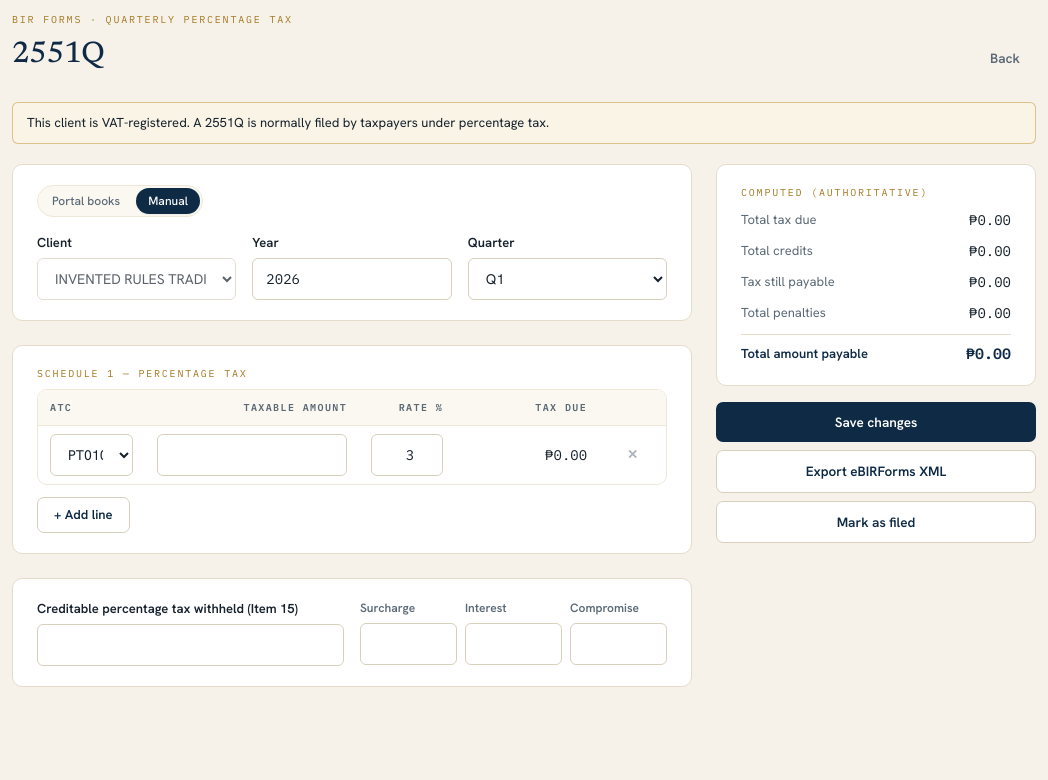
Test: T5 a freshly mounted form, and overlapping actions (W3 review round 2) › holds Save while a Mark as filed is in flight
The width and height of the screenshot is (1048, 780).
Expected: the button "Save changes" is enabled, 716,402 -> 1036,442
Click the button "Mark as filed" at (876, 522), box 716,500 -> 1036,543
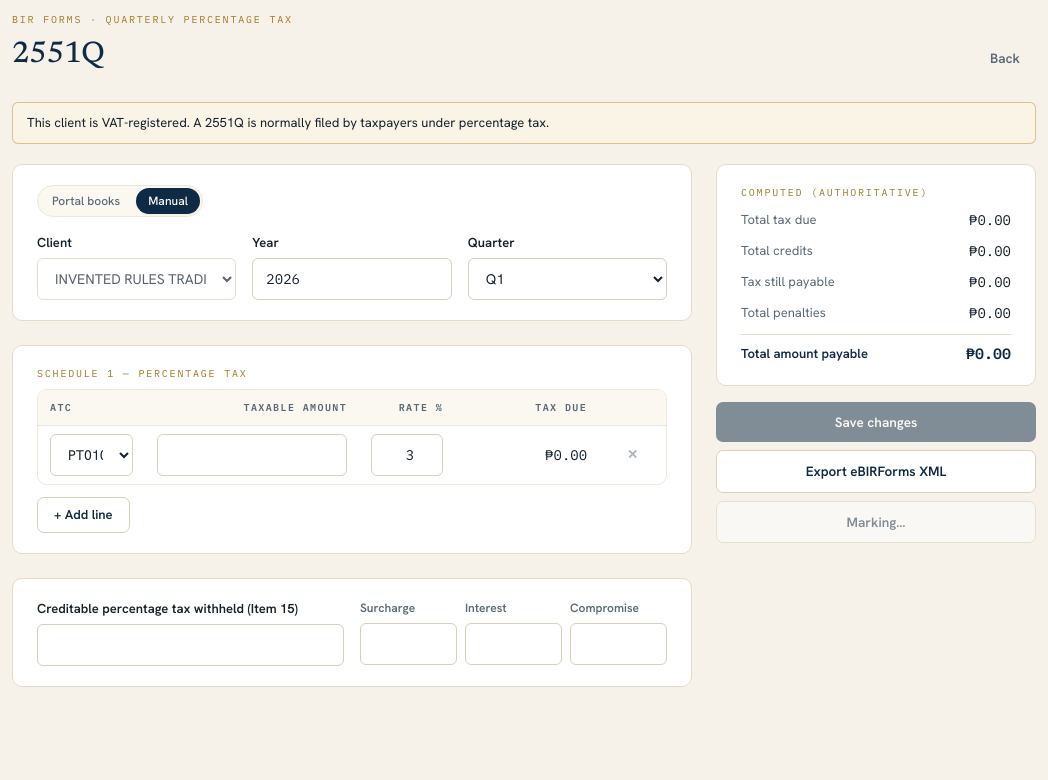
Expected: the button "Save changes" is disabled, 716,402 -> 1036,442
